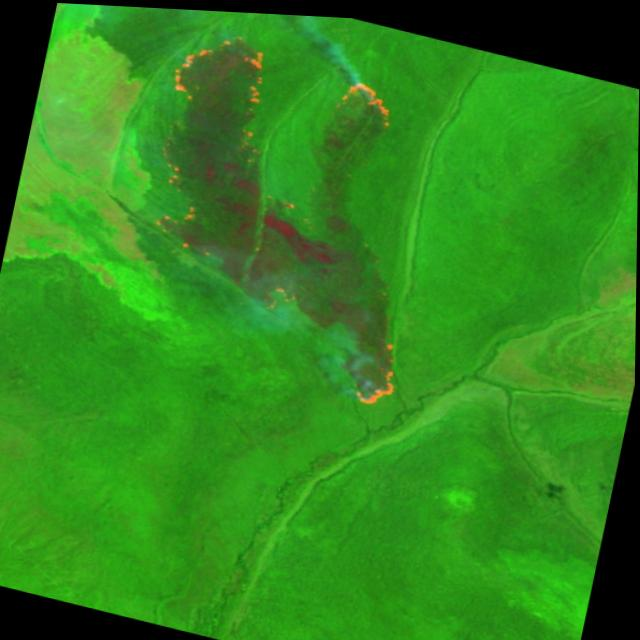fire: (106, 20, 463, 412)
